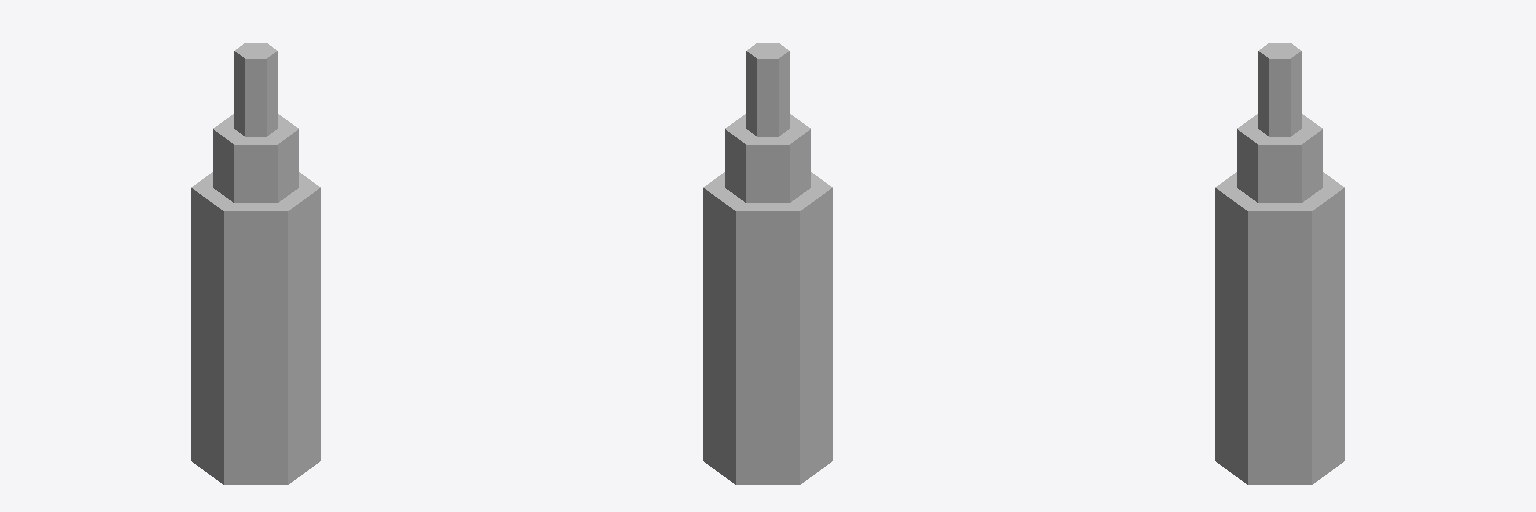
The model's file is bottle_of_soda.obj.
3 renders of one model, left to right at view 1: azimuth 30°, elevation 25°; view 2: azimuth 150°, elevation 25°; view 3: azimuth 270°, elevation 25°, orthographic.
Visible parts, largest first — view 1: bottom, top, cap; view 2: bottom, top, cap; view 3: bottom, top, cap.
Part boxes in pixels (x1,y1,x2,y2): bottom: (191,172,320,484); top: (213,114,298,202); cap: (234,43,277,136); bottom: (703,172,832,484); top: (725,114,810,202); cap: (746,43,789,136); bottom: (1215,172,1344,484); top: (1237,114,1322,202); cap: (1258,43,1301,136).
Size of the model in its own units: 0.1624 by 0.6562 by 0.1875.